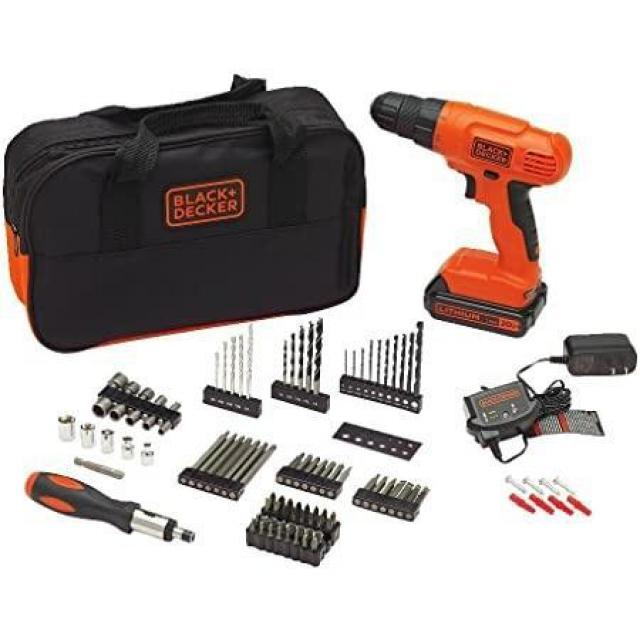drill: (369, 92, 574, 340)
